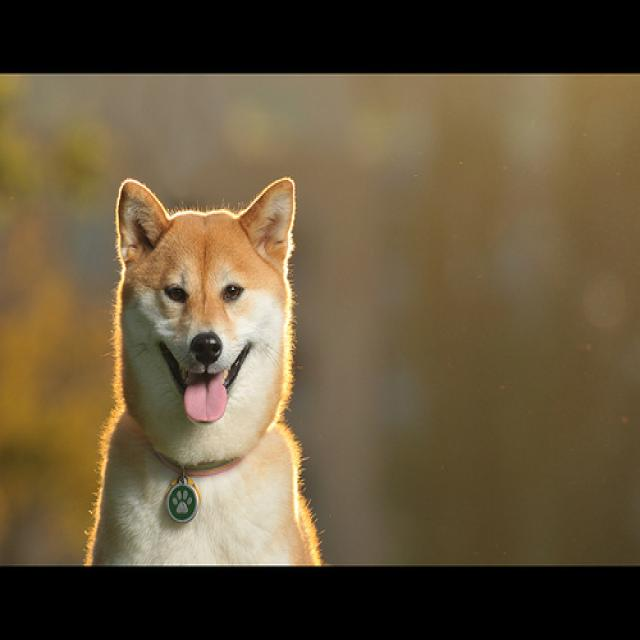dog-shiba_inu: (76, 172, 330, 572)
